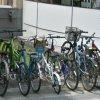bicycles: (1, 27, 32, 96), (0, 49, 9, 100)
